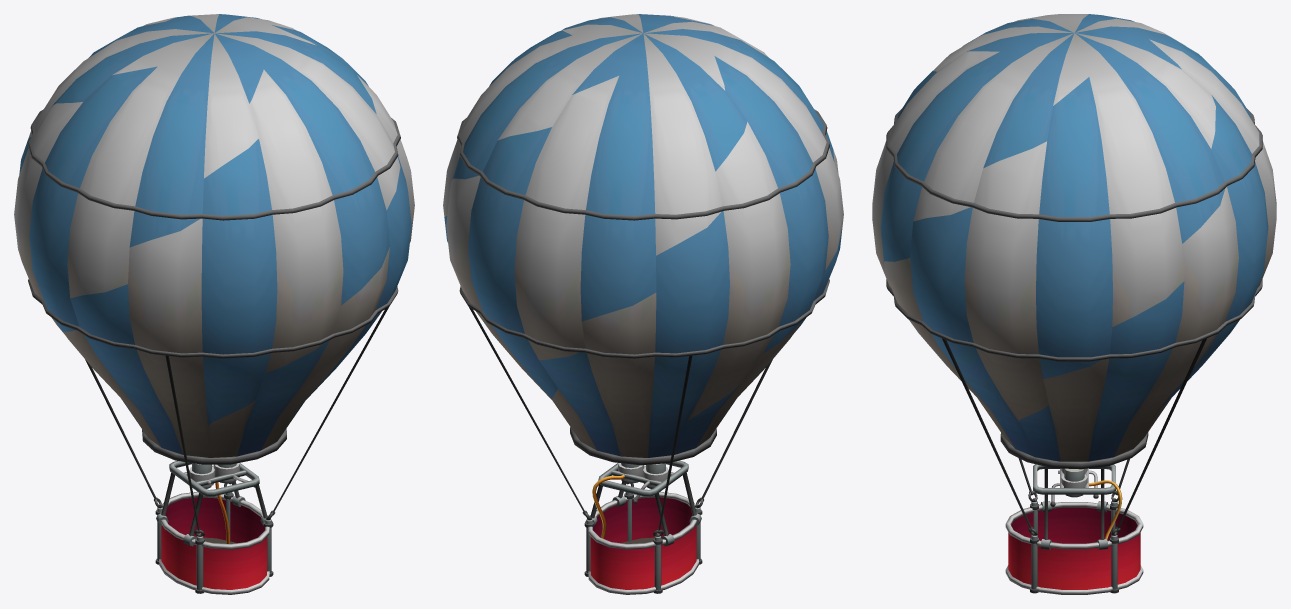
File: balloon_4.fbx
The picture shows the model from 3 angles, left to right: view 1: azimuth 30°, elevation 25°; view 2: azimuth 150°, elevation 25°; view 3: azimuth 270°, elevation 25°; orthographic projection.
Visible parts, largest first — view 1: Balloon_3; view 2: Balloon_3; view 3: Balloon_3.
Part boxes in pixels (<box>): Balloon_3: <box>14,14,414,594</box>; Balloon_3: <box>443,14,843,594</box>; Balloon_3: <box>872,14,1276,594</box>.
Size of the model in its own units: 970 by 1433 by 970.
